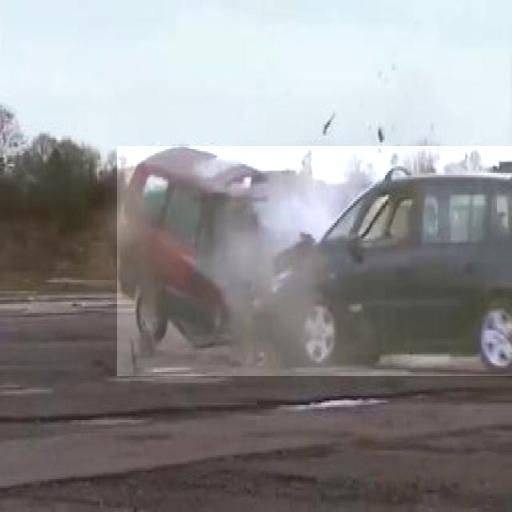小汽车撞小汽车: (117, 146, 512, 376)
